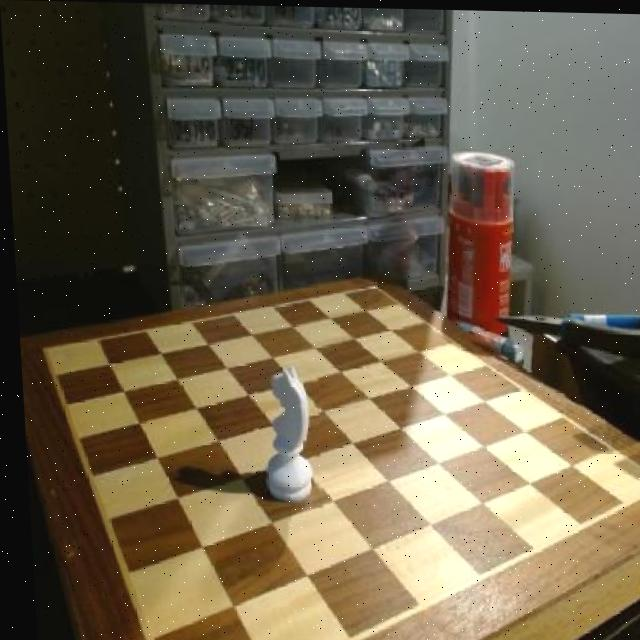white-king: (245, 370, 319, 507)
